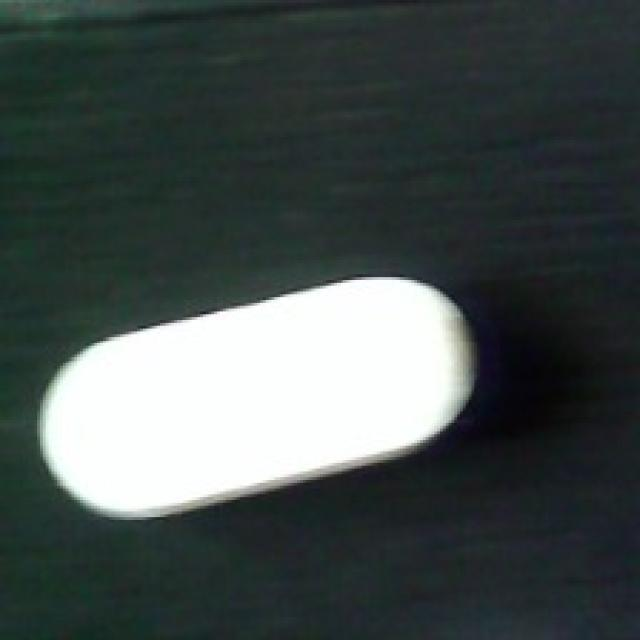no-defect: (34, 274, 480, 524)
